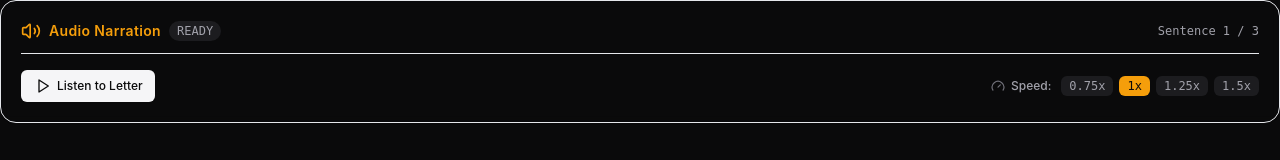
TTSPlayer Component › handles stop/reset button click
// Start playing
What coordinates should you click on to do the following:
click the button with aria-label "Play reading letter aloud"
I would click on:
 (88, 86)
Its box is x1=21 y1=70 x2=155 y2=102.
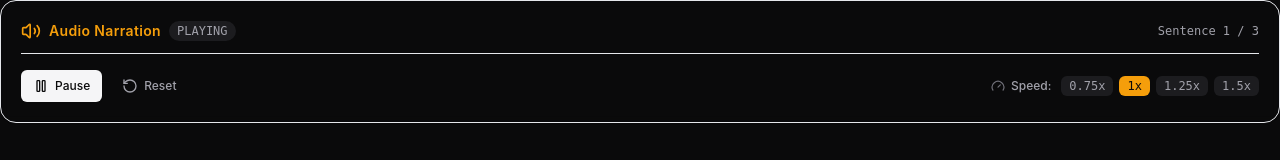
Result: the button with aria-label "Stop reading and reset to beginning" is shown
What coordinates should you click on to do the following:
click the button with aria-label "Stop reading and reset to beginning"
I would click on:
 (149, 86)
Its box is x1=110 y1=70 x2=188 y2=102.
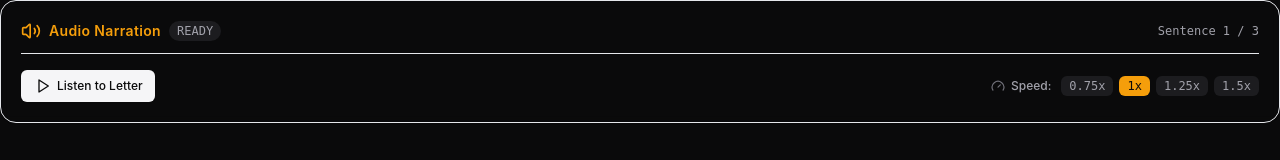
Result: the text "Ready" is shown at x1=169 y1=21 x2=221 y2=41
